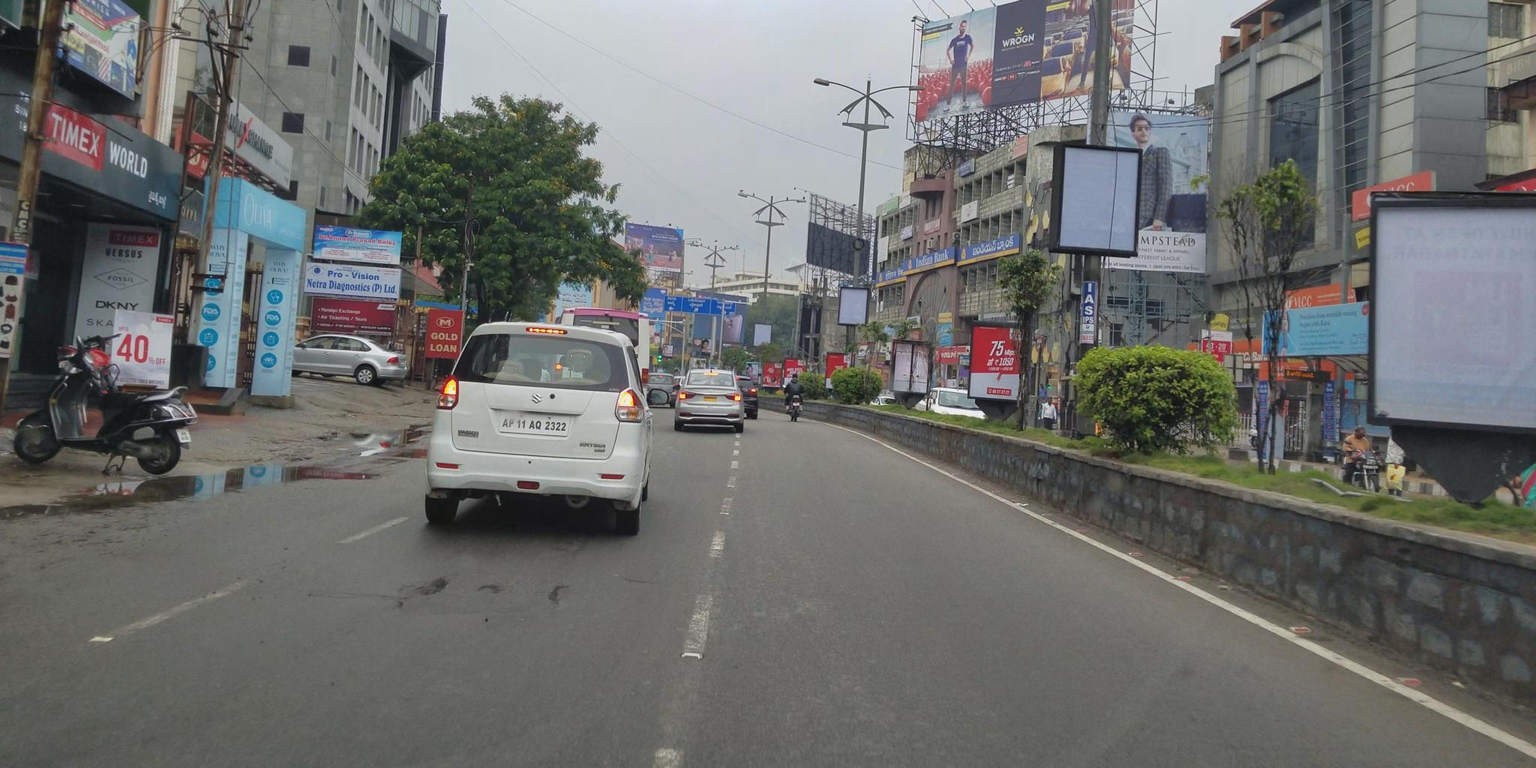streetlight: (856, 68, 938, 121), (798, 70, 870, 127), (729, 185, 774, 225), (770, 188, 807, 222), (683, 234, 717, 267), (713, 239, 747, 262)
